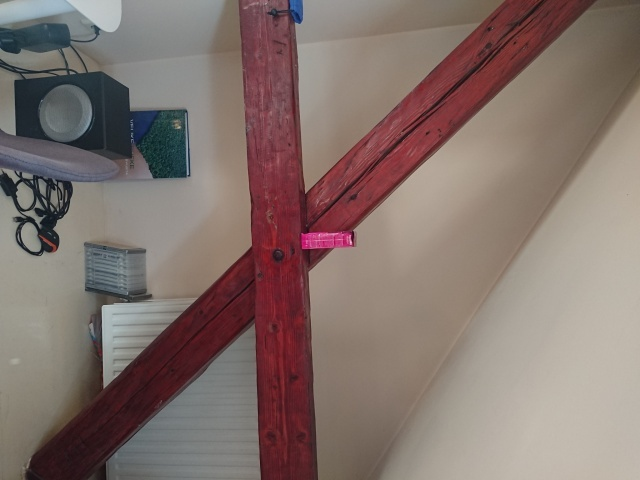Barcaffe Classic Original 225g: (298, 228, 359, 252)
